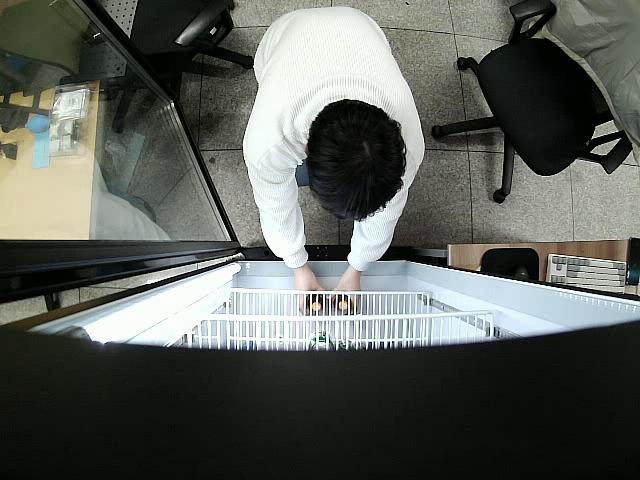00_hand: (296, 274, 326, 313), (332, 276, 362, 311)
17_vita500: (333, 293, 353, 313), (308, 291, 325, 312)
